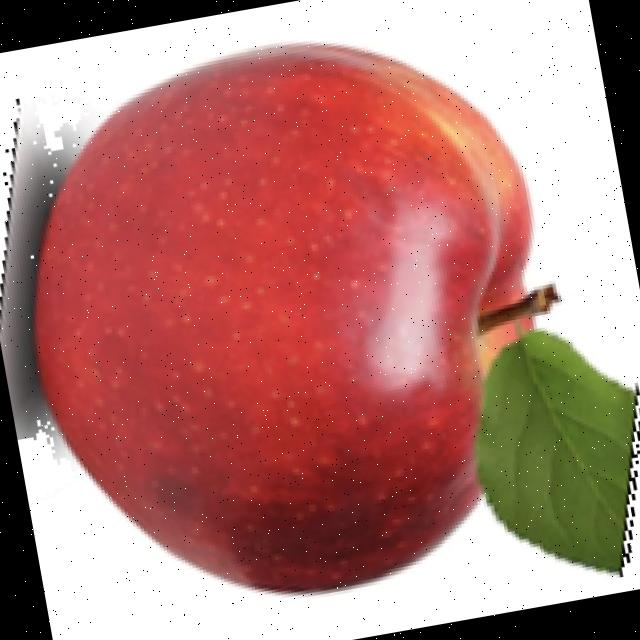apple: (0, 38, 640, 601)
